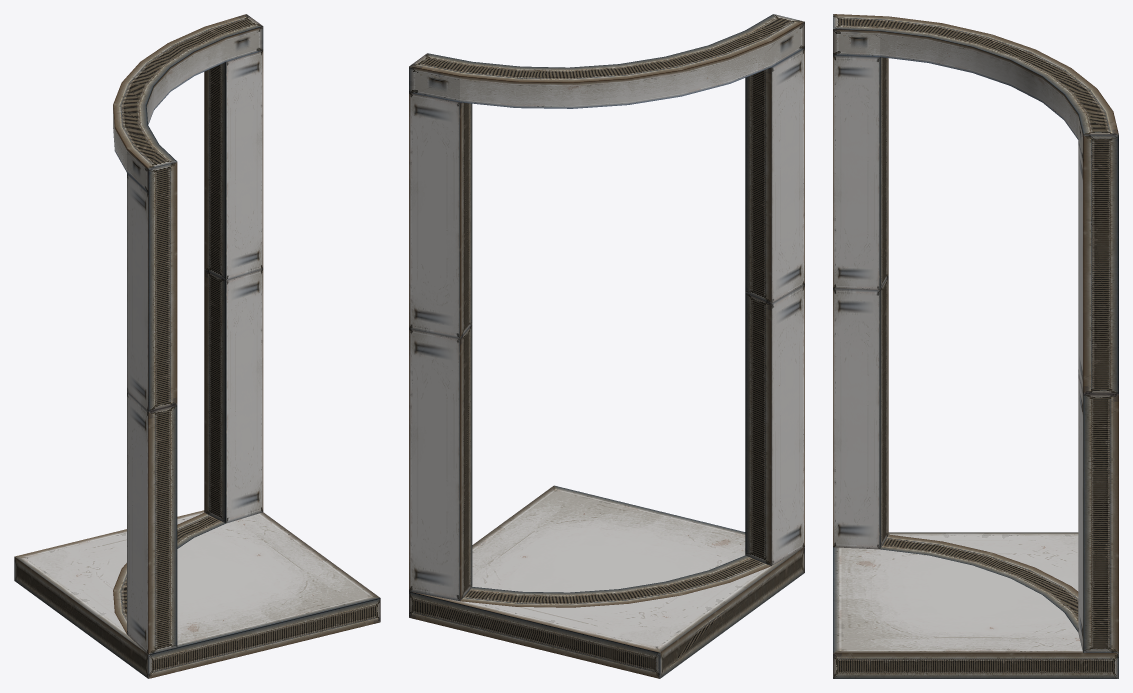
The model's file is scifi_floor_portal_curve_big.FBX.
The picture shows the model from 3 angles, left to right: view 1: azimuth 30°, elevation 25°; view 2: azimuth 150°, elevation 25°; view 3: azimuth 270°, elevation 25°; orthographic projection. The views are drawn at different scales.
Visible parts, largest first — view 1: Plane192; view 2: Plane192; view 3: Plane192.
Part boxes in pixels (<box>): Plane192: <box>14,14,380,678</box>; Plane192: <box>409,14,804,678</box>; Plane192: <box>833,14,1118,678</box>.
Bounding box in the file's own units: 254 × 533 × 254.
